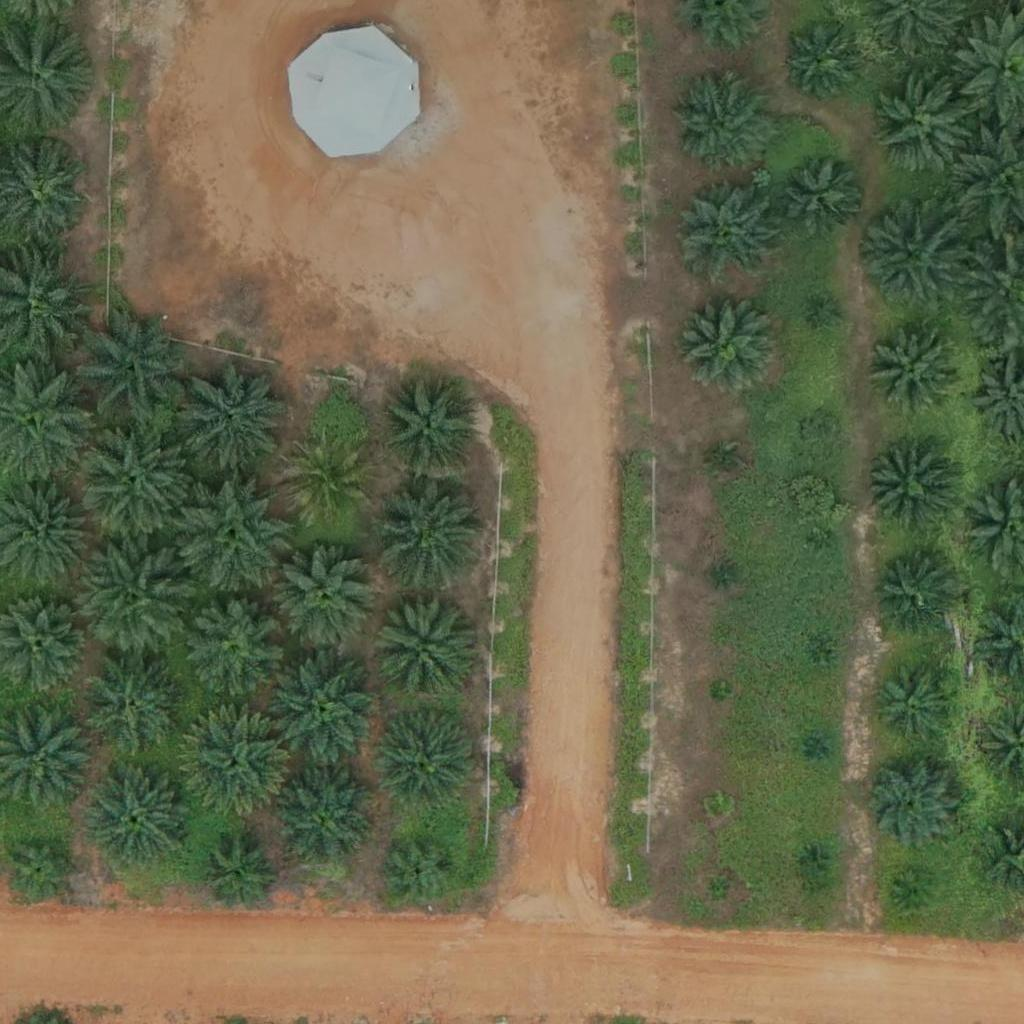Kelapa_Sawit: (856, 199, 969, 313), (180, 362, 293, 476), (178, 478, 291, 592), (78, 313, 191, 427), (267, 651, 380, 764), (78, 419, 190, 533), (180, 712, 292, 825), (856, 748, 968, 861), (375, 477, 487, 590), (75, 544, 187, 657), (669, 71, 769, 172), (677, 182, 777, 283), (675, 290, 775, 391), (377, 377, 477, 478), (274, 769, 374, 870), (83, 660, 183, 761), (87, 767, 187, 868), (874, 77, 974, 177), (372, 597, 472, 697), (377, 711, 477, 811), (278, 550, 378, 650), (184, 600, 284, 700), (874, 659, 962, 748), (871, 551, 959, 639), (283, 440, 371, 528), (872, 323, 959, 411), (865, 445, 952, 533), (778, 152, 865, 240), (383, 833, 458, 909), (785, 24, 860, 100), (201, 839, 276, 914), (5, 833, 80, 908), (803, 415, 841, 453), (896, 870, 934, 908), (816, 300, 841, 325), (812, 530, 837, 555), (806, 646, 831, 671), (712, 450, 737, 475), (712, 563, 737, 588), (708, 681, 733, 706), (704, 793, 729, 818), (707, 877, 732, 902), (807, 735, 832, 760), (800, 845, 825, 870)
